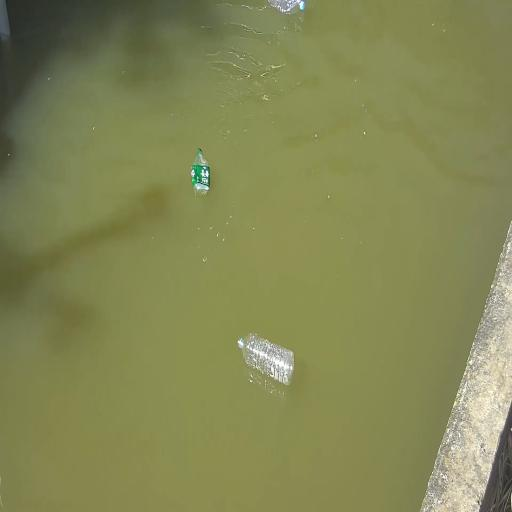plastic: (238, 328, 296, 386), (190, 146, 212, 198), (266, 0, 306, 14)
